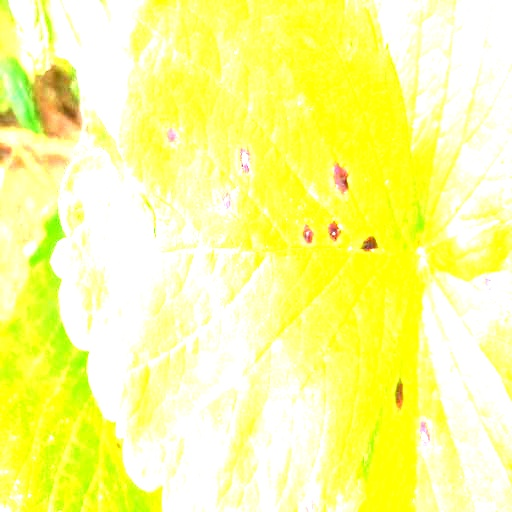Leaf Spot: (49, 0, 422, 511), (348, 255, 511, 511), (363, 0, 511, 280)
